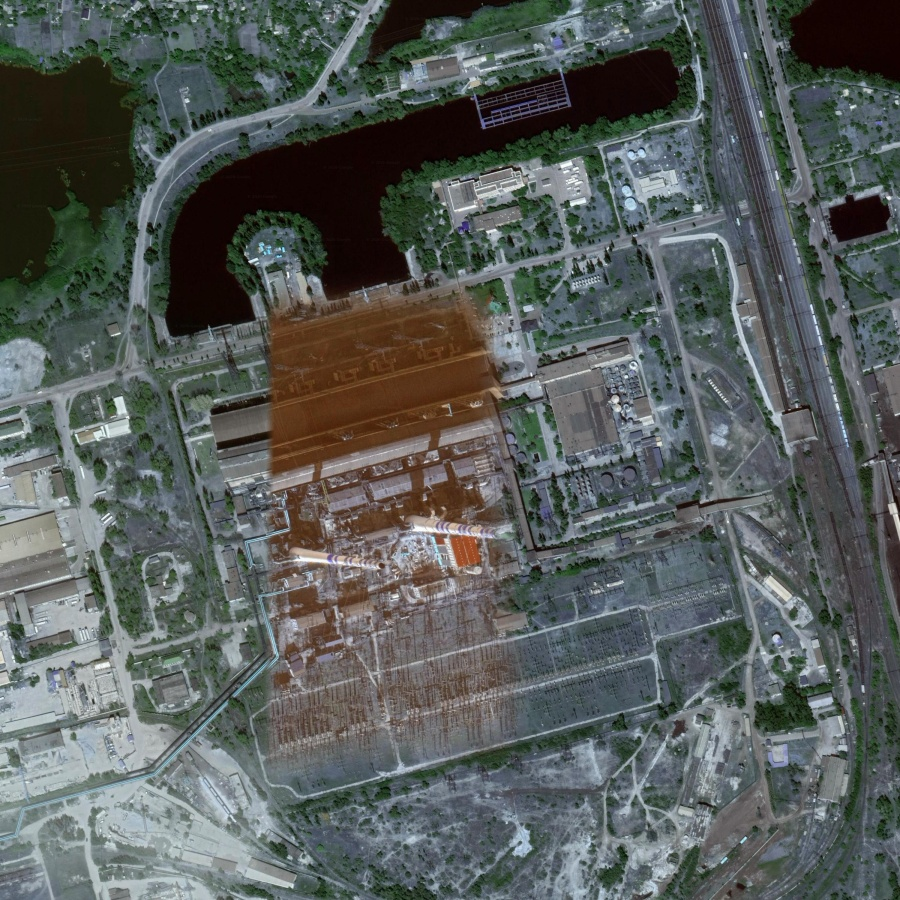PowerPlant: (234, 388, 574, 657)
